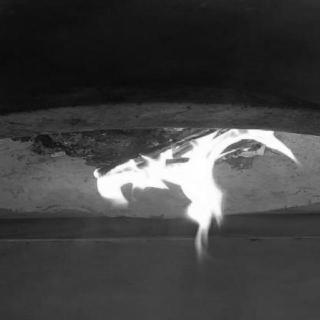Fire: (88, 117, 305, 263)
